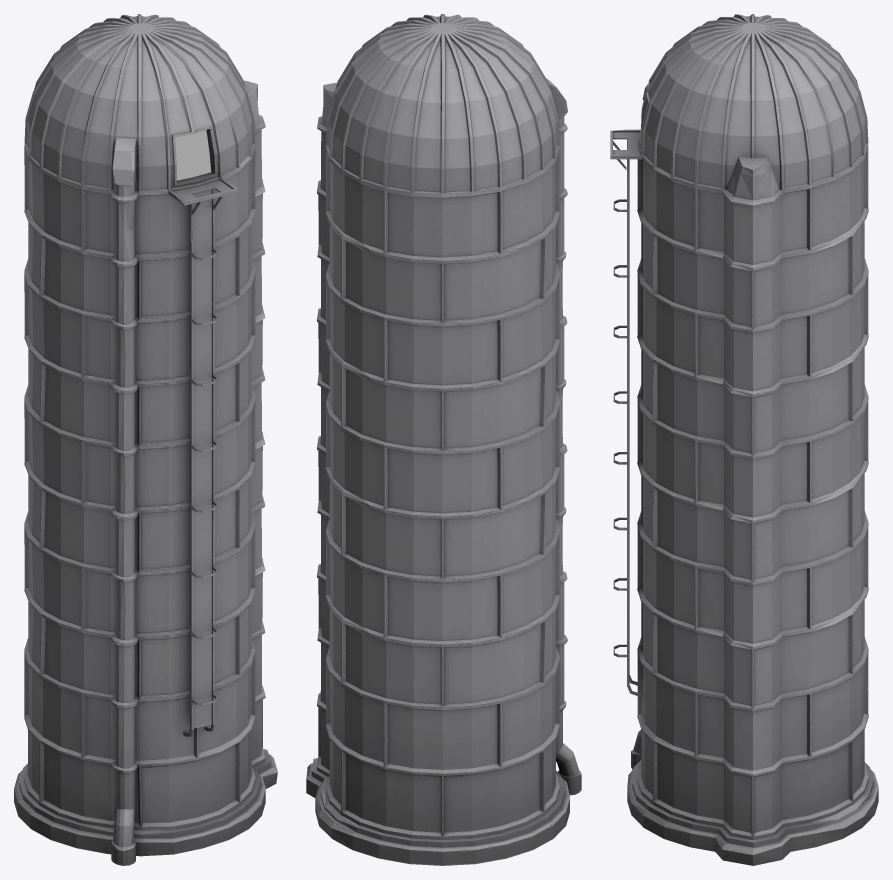
File: Farm_Silo.fbx
3 renders of one model, left to right at view 1: azimuth 30°, elevation 25°; view 2: azimuth 150°, elevation 25°; view 3: azimuth 270°, elevation 25°, orthographic.
Parts seen in each view (by area): view 1: SM_Town_Farm_Silo_02.mo; view 2: SM_Town_Farm_Silo_02.mo; view 3: SM_Town_Farm_Silo_02.mo.
Boxes of the visible parts, x1,y1,x2,y2 form: SM_Town_Farm_Silo_02.mo: (14, 14, 277, 865); SM_Town_Farm_Silo_02.mo: (306, 14, 581, 865); SM_Town_Farm_Silo_02.mo: (610, 14, 878, 865).
Size of the model in its own units: 409 by 1247 by 392.
